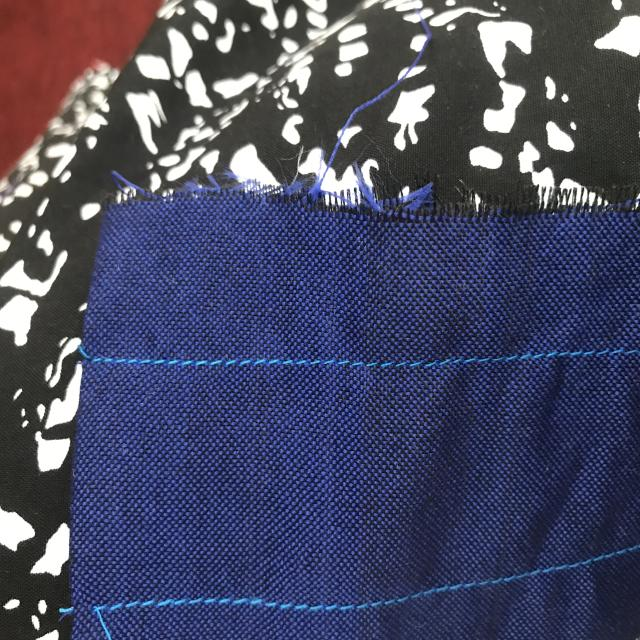good: (147, 582, 252, 621), (189, 349, 319, 375), (348, 348, 447, 378), (498, 347, 608, 368)
